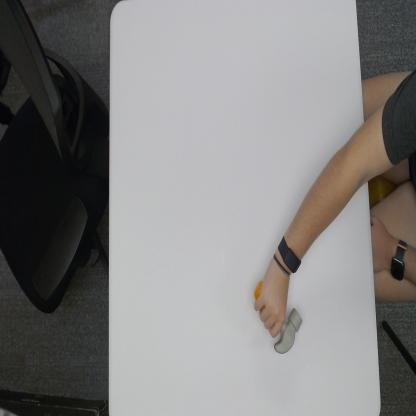Arm: (296, 120, 367, 258)
Hammer: (254, 280, 303, 355)
Hand: (256, 259, 289, 336)
